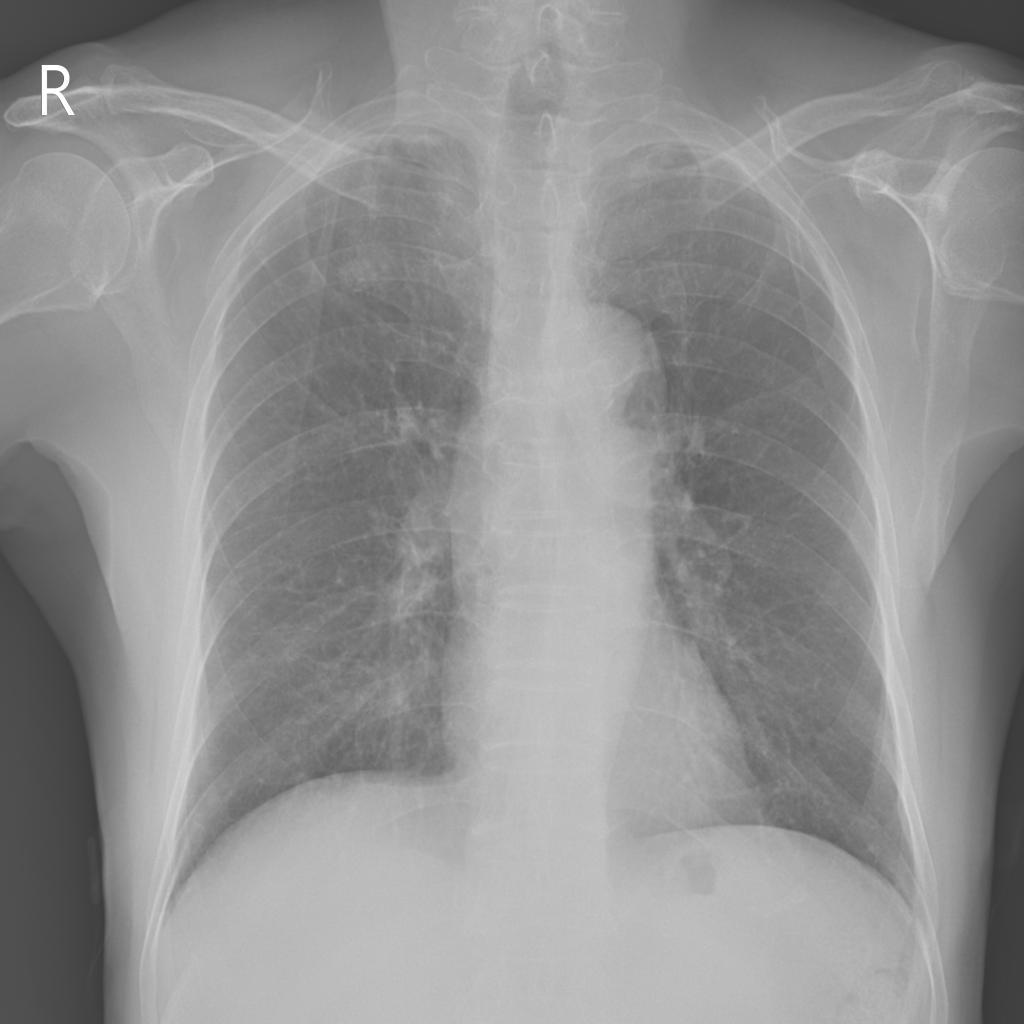Nodule: (338, 262, 382, 295)
